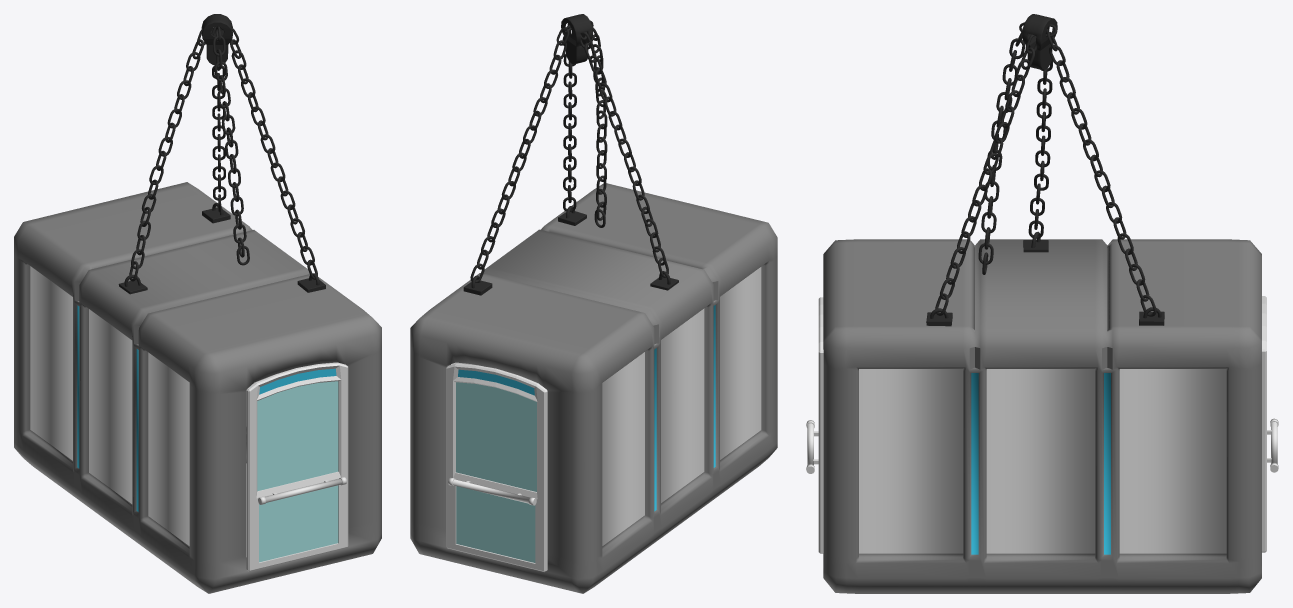
File: NacelleSansChaine.fbx
3 views of the same model, side by side, from view 1: azimuth 30°, elevation 25°; view 2: azimuth 150°, elevation 25°; view 3: azimuth 270°, elevation 25° (orthographic). The views are drawn at different scales.
Visible parts, largest first — view 1: nacelle.083, Porte01; view 2: nacelle.083, Porte02; view 3: nacelle.083, Porte01, Porte02.
Part boxes in pixels (x1,y1,x2,y2): nacelle.083: [14, 14, 381, 593]; Porte01: [246, 362, 348, 571]; nacelle.083: [410, 14, 777, 593]; Porte02: [446, 363, 547, 571]; nacelle.083: [823, 14, 1261, 593]; Porte01: [806, 297, 823, 553]; Porte02: [1261, 296, 1278, 552].
Size of the model in its own units: 283 by 715 by 563.
